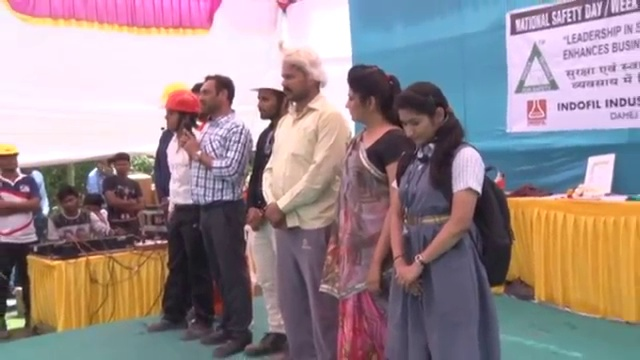helmet: (154, 87, 202, 119), (249, 70, 284, 98), (3, 143, 20, 158)
helmet_off: (389, 81, 456, 155), (339, 63, 399, 135), (275, 48, 328, 101), (194, 74, 235, 124), (56, 184, 85, 217), (111, 160, 135, 184), (96, 158, 111, 177)
helmet_on: (155, 86, 200, 139), (248, 69, 283, 124), (0, 143, 21, 182)
person: (384, 77, 513, 360), (257, 41, 353, 360), (179, 77, 257, 358), (334, 65, 406, 360), (144, 86, 214, 343), (243, 64, 292, 359), (0, 144, 42, 341), (48, 185, 125, 242), (97, 158, 142, 227), (85, 157, 111, 194)
